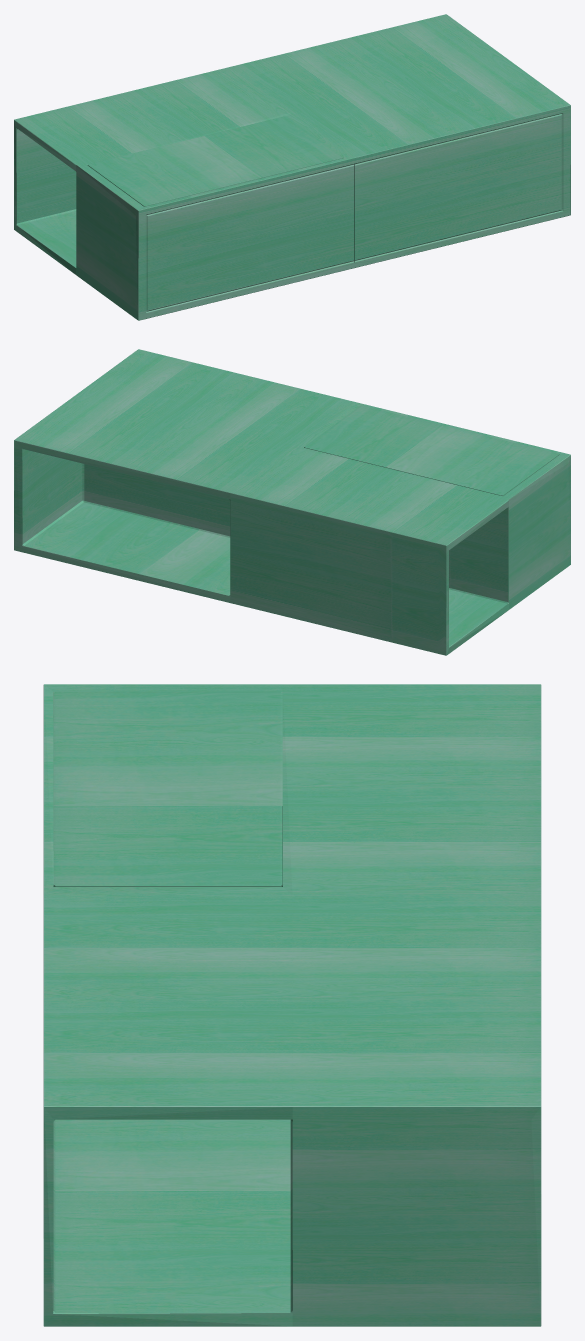
The model's file is furniture_test_navy_wood_c1.dae.
3 renders of one model, top to bottom at view 1: azimuth 30°, elevation 25°; view 2: azimuth 150°, elevation 25°; view 3: azimuth 270°, elevation 25°, orthographic. The views are drawn at different scales.
Parts seen in each view (by area): view 1: aws_CoffeeTable_01_visual; view 2: aws_CoffeeTable_01_visual; view 3: aws_CoffeeTable_01_visual.
Part boxes in pixels (x1,y1,x2,y2): aws_CoffeeTable_01_visual: (14,14,570,320); aws_CoffeeTable_01_visual: (14,349,570,655); aws_CoffeeTable_01_visual: (43,684,541,1326).
Bounding box in the file's own units: 131 × 65.48 × 32.17.
Materials: 1 (1 with a texture image).
